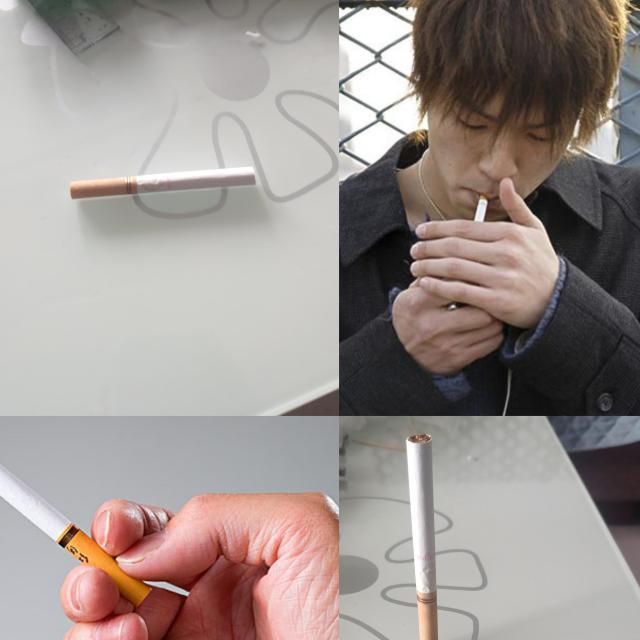smoking: (0, 416, 161, 614), (406, 435, 441, 640), (69, 167, 258, 200), (467, 185, 492, 233)
